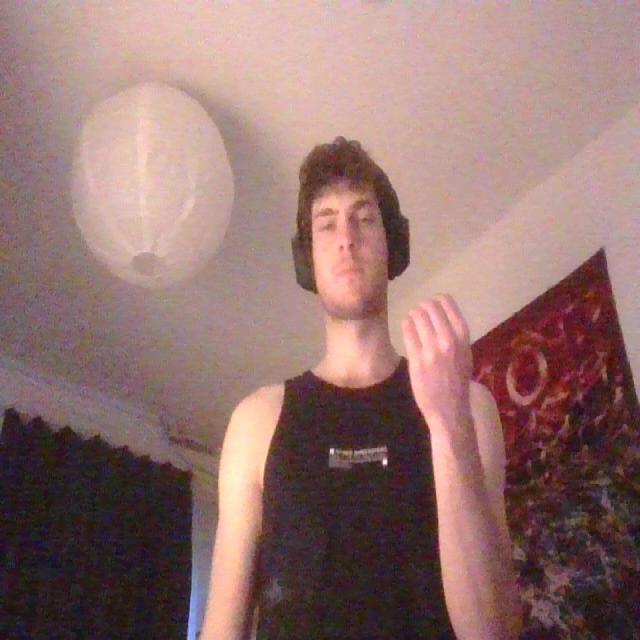forward: (394, 287, 478, 417)
